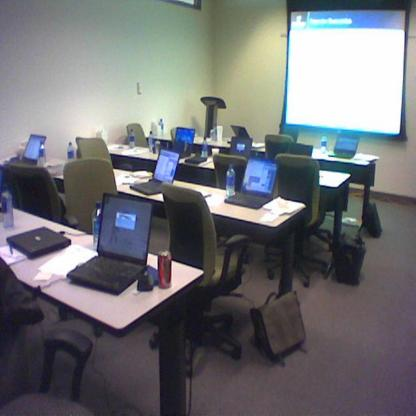board: (80, 189, 152, 290), (224, 155, 280, 209), (130, 149, 180, 196), (6, 227, 70, 259), (19, 134, 46, 166), (170, 128, 195, 158), (329, 135, 359, 159), (1, 184, 13, 229), (159, 250, 171, 287), (228, 138, 252, 156), (225, 165, 234, 195), (231, 126, 250, 137), (68, 140, 75, 163), (320, 132, 327, 154), (128, 129, 134, 150), (148, 130, 154, 151), (158, 117, 163, 138), (202, 136, 207, 157)
